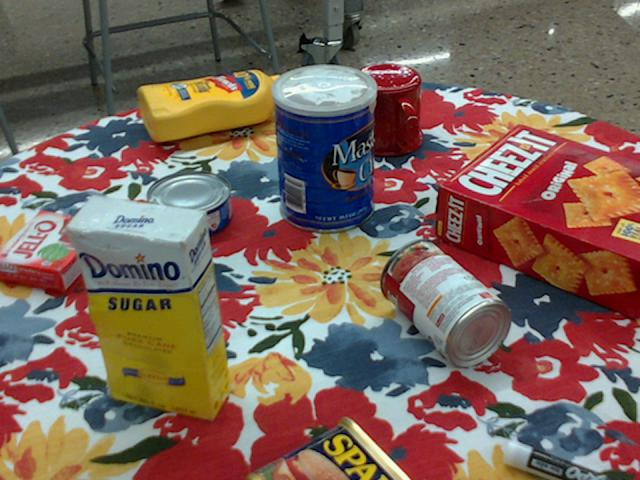cracker_box: (435, 124, 639, 320)
gelatin_box: (0, 213, 109, 295)
large_marker: (505, 438, 619, 479)
master_chef_can: (272, 64, 378, 234)
mug: (346, 64, 424, 157)
mustard_bottle: (136, 70, 297, 141)
potted_meat_can: (245, 416, 414, 479)
sugar_box: (63, 193, 232, 420)
tomato_soup_can: (380, 239, 514, 367)
tuna_fish_can: (144, 171, 230, 240)
